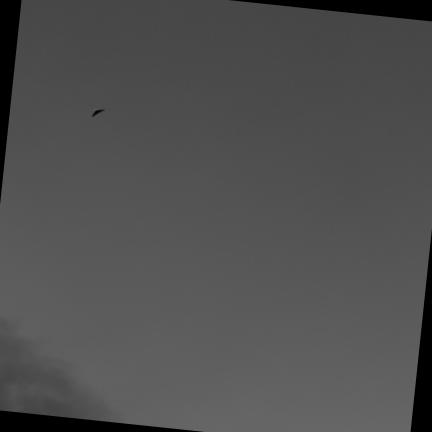Shahed: (92, 110, 104, 116)
